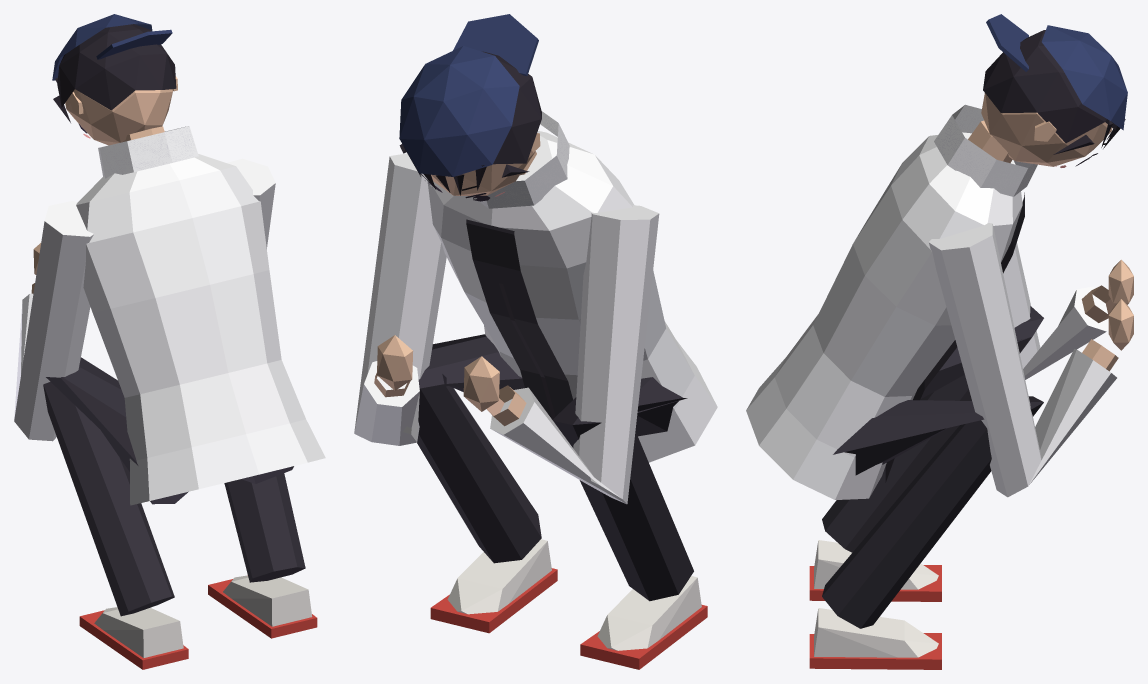
File: spectator_e.glb
3 renders of one model, left to right at view 1: azimuth 30°, elevation 25°; view 2: azimuth 150°, elevation 25°; view 3: azimuth 270°, elevation 25°, orthographic. The views are drawn at different scales.
Parts seen in each view (by area): view 1: spectator_e; view 2: spectator_e; view 3: spectator_e.
Part boxes in pixels (box(x1,y1,x2,y2)): spectator_e: box(14, 14, 325, 669); spectator_e: box(354, 14, 717, 669); spectator_e: box(746, 14, 1133, 669).
Bounding box in the file's own units: 0.5017 × 1.16 × 0.6753.
